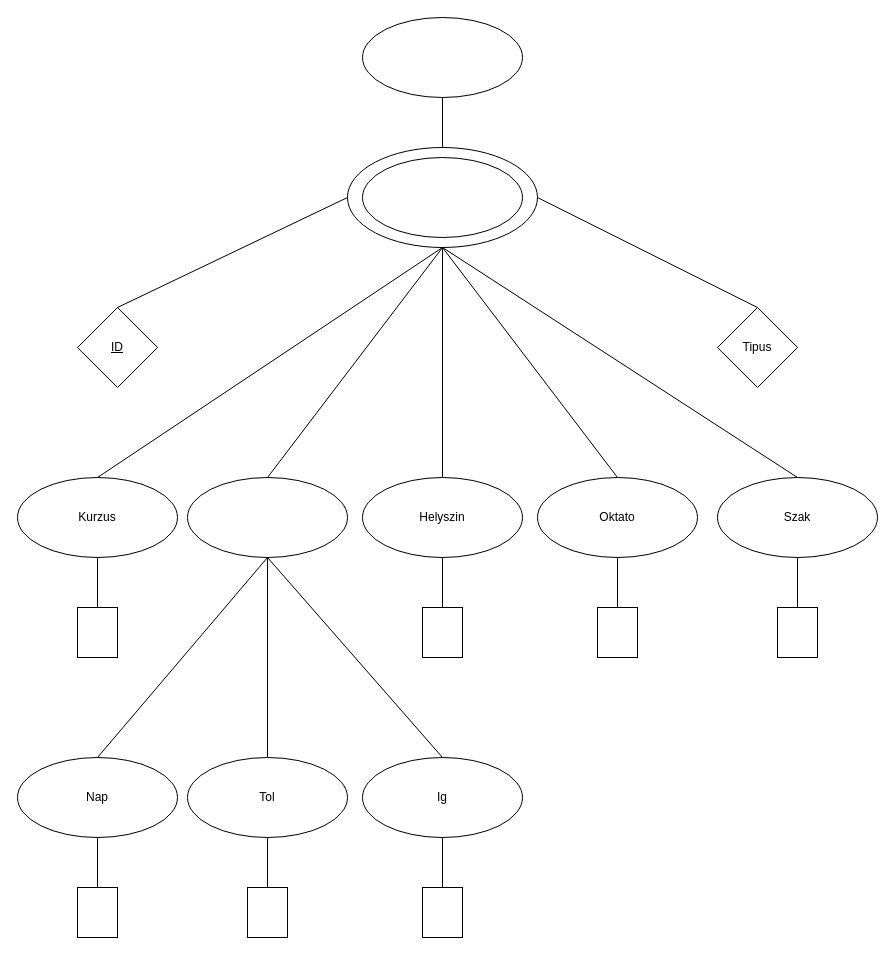
The diagram is 895 pixels wide and 955 high, and some of its shapes have lost their labels. The shapes that lost their labels are listed below. From the top down, each one's centre as x and y in pixels, then its label:
[442,57]: NEPTUNKOD_orarend
[442,197]: Ora
[267,517]: Idopont
